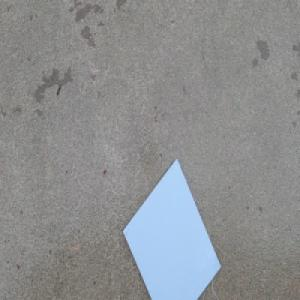PaintChip: (121, 156, 221, 300)
